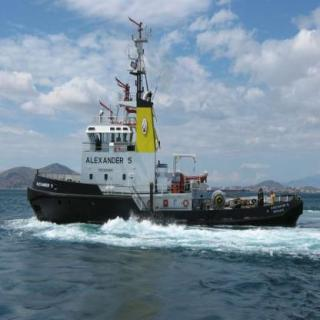Tug Boat: (23, 21, 292, 224)
